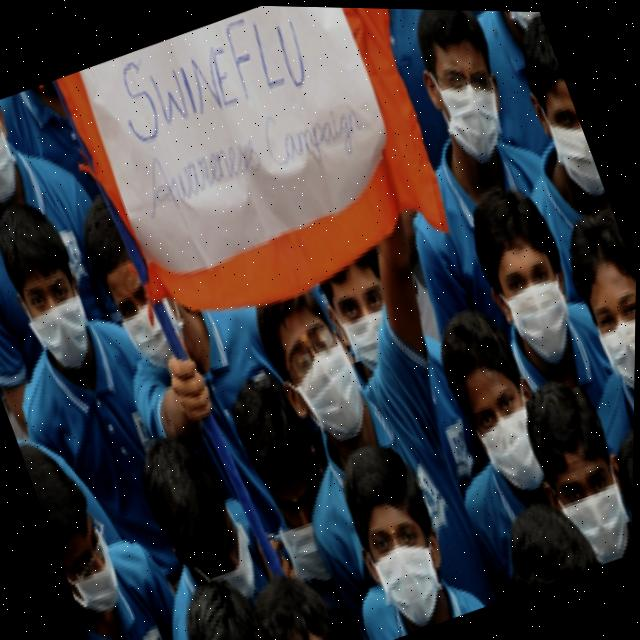Mask: (358, 513, 469, 635), (483, 255, 590, 370), (277, 339, 381, 457), (417, 47, 518, 167), (467, 386, 559, 496), (552, 462, 635, 569), (18, 280, 104, 377), (115, 285, 199, 383), (179, 527, 270, 616), (334, 288, 412, 380), (55, 526, 129, 615), (545, 107, 607, 201), (597, 301, 637, 402), (0, 113, 31, 213), (486, 8, 546, 37)
